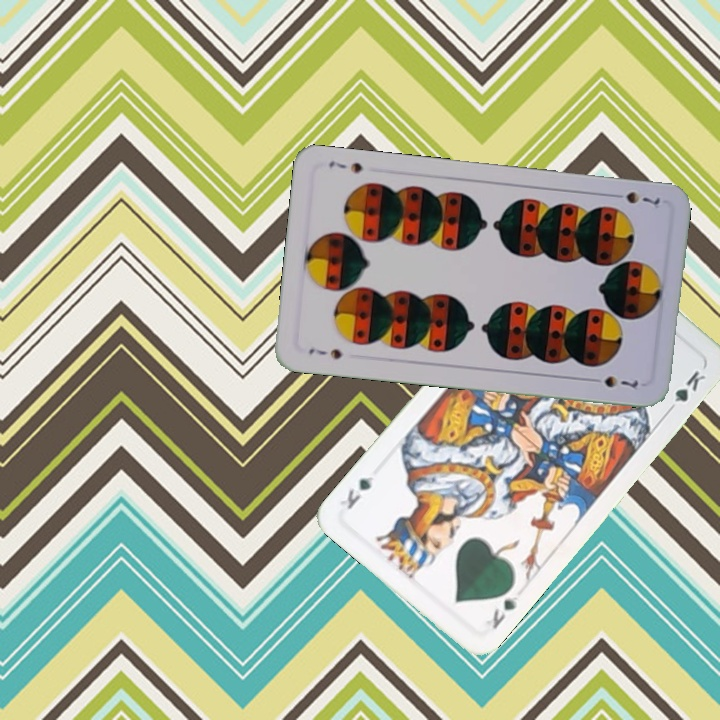GK: (481, 591, 521, 633)
S7: (606, 187, 663, 208), (305, 344, 345, 362)
